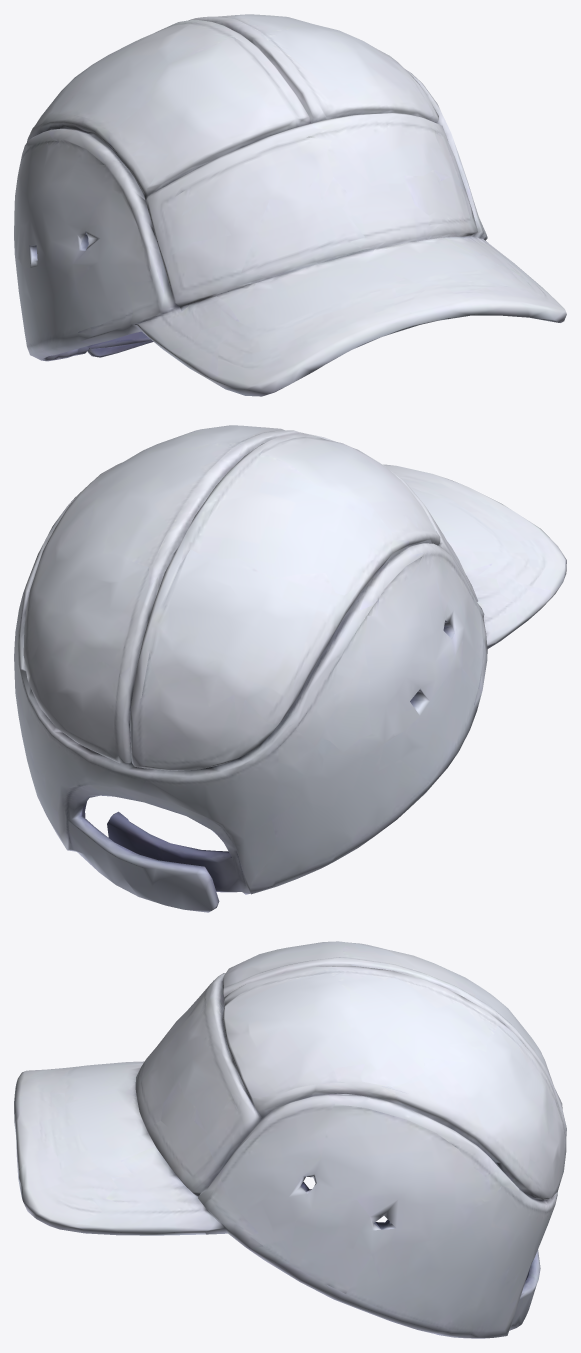
The model's file is hat-cap-white.glb.
The picture shows the model from 3 angles, top to bottom: view 1: azimuth 30°, elevation 25°; view 2: azimuth 150°, elevation 25°; view 3: azimuth 270°, elevation 25°; orthographic projection. The views are drawn at different scales.
Visible parts, largest first — view 1: hat-cap-white; view 2: hat-cap-white; view 3: hat-cap-white.
Part boxes in pixels (x1,y1,x2,y2): hat-cap-white: (14, 14, 566, 396); hat-cap-white: (14, 425, 566, 912); hat-cap-white: (14, 941, 566, 1338).
Size of the model in its own units: 0.7854 by 0.7025 by 1.
Materials: 1 (1 with a texture image).
